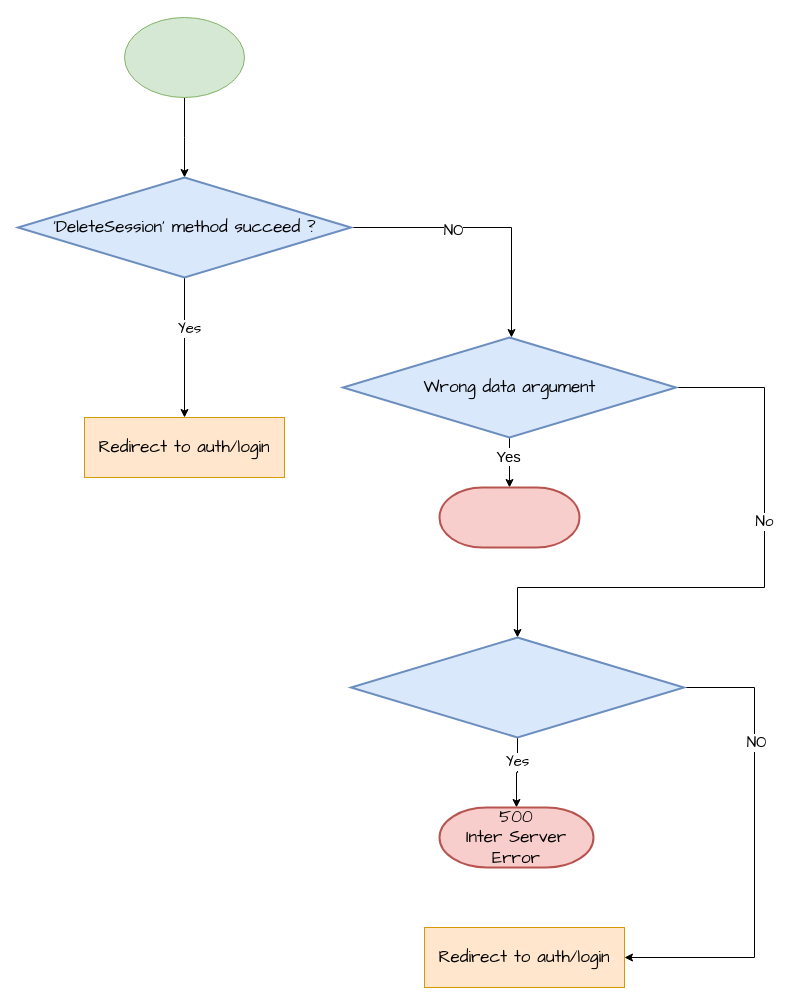
Some shapes in this 790 by 1005 pixel diagram are drawn without their labels. Here are the shapes that lost their labels. From the top down, the centre of each, then its label:
the point at 184,57: /logout
the point at 509,517: 400 Bad Request
the point at 517,687: Server error
